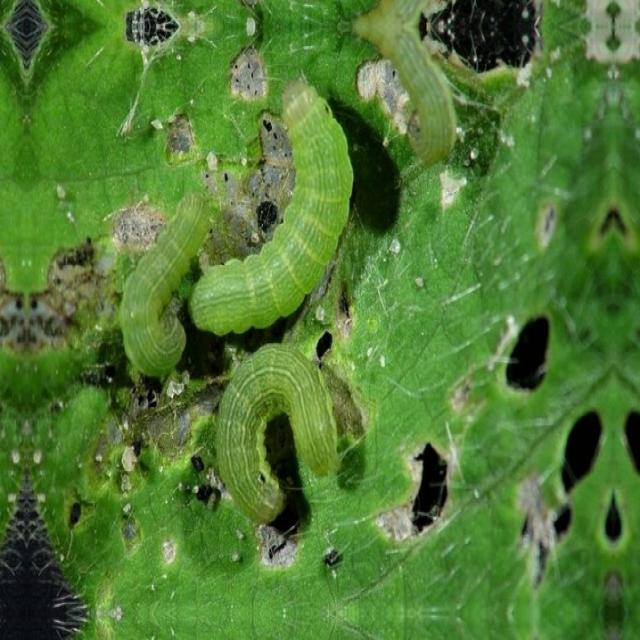armyworm: (187, 76, 354, 336), (214, 340, 340, 525), (118, 202, 211, 372)
